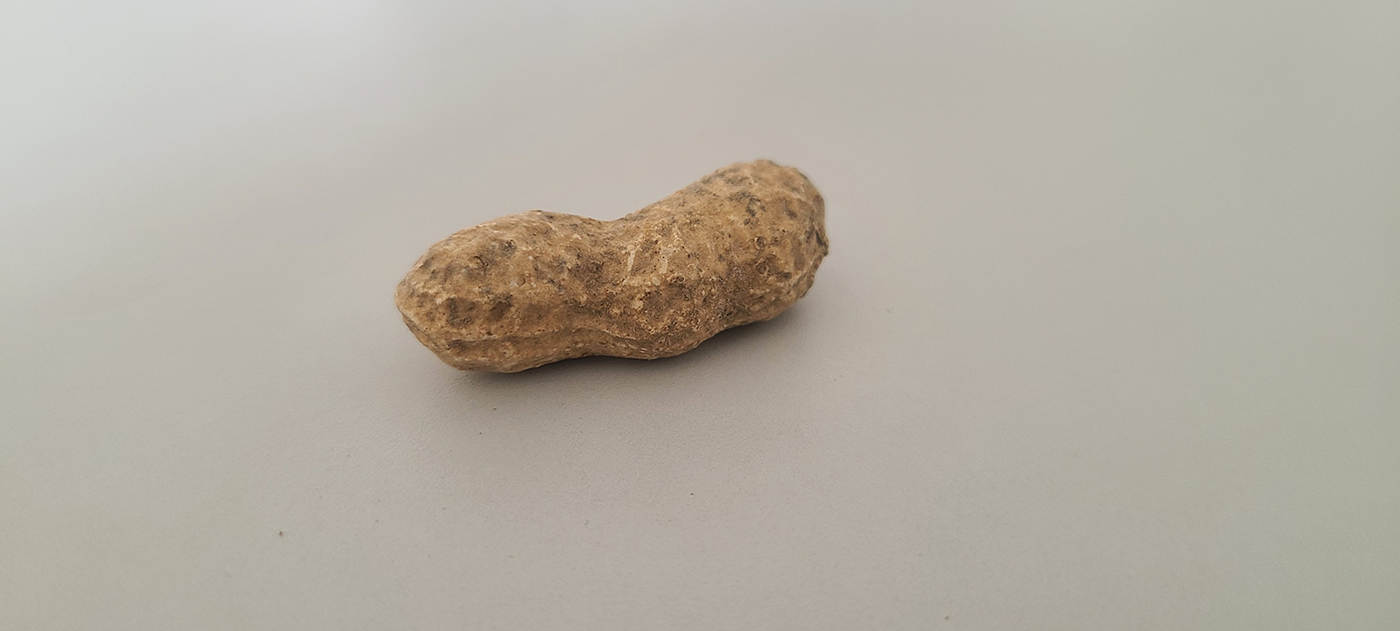h: (396, 160, 831, 377)
